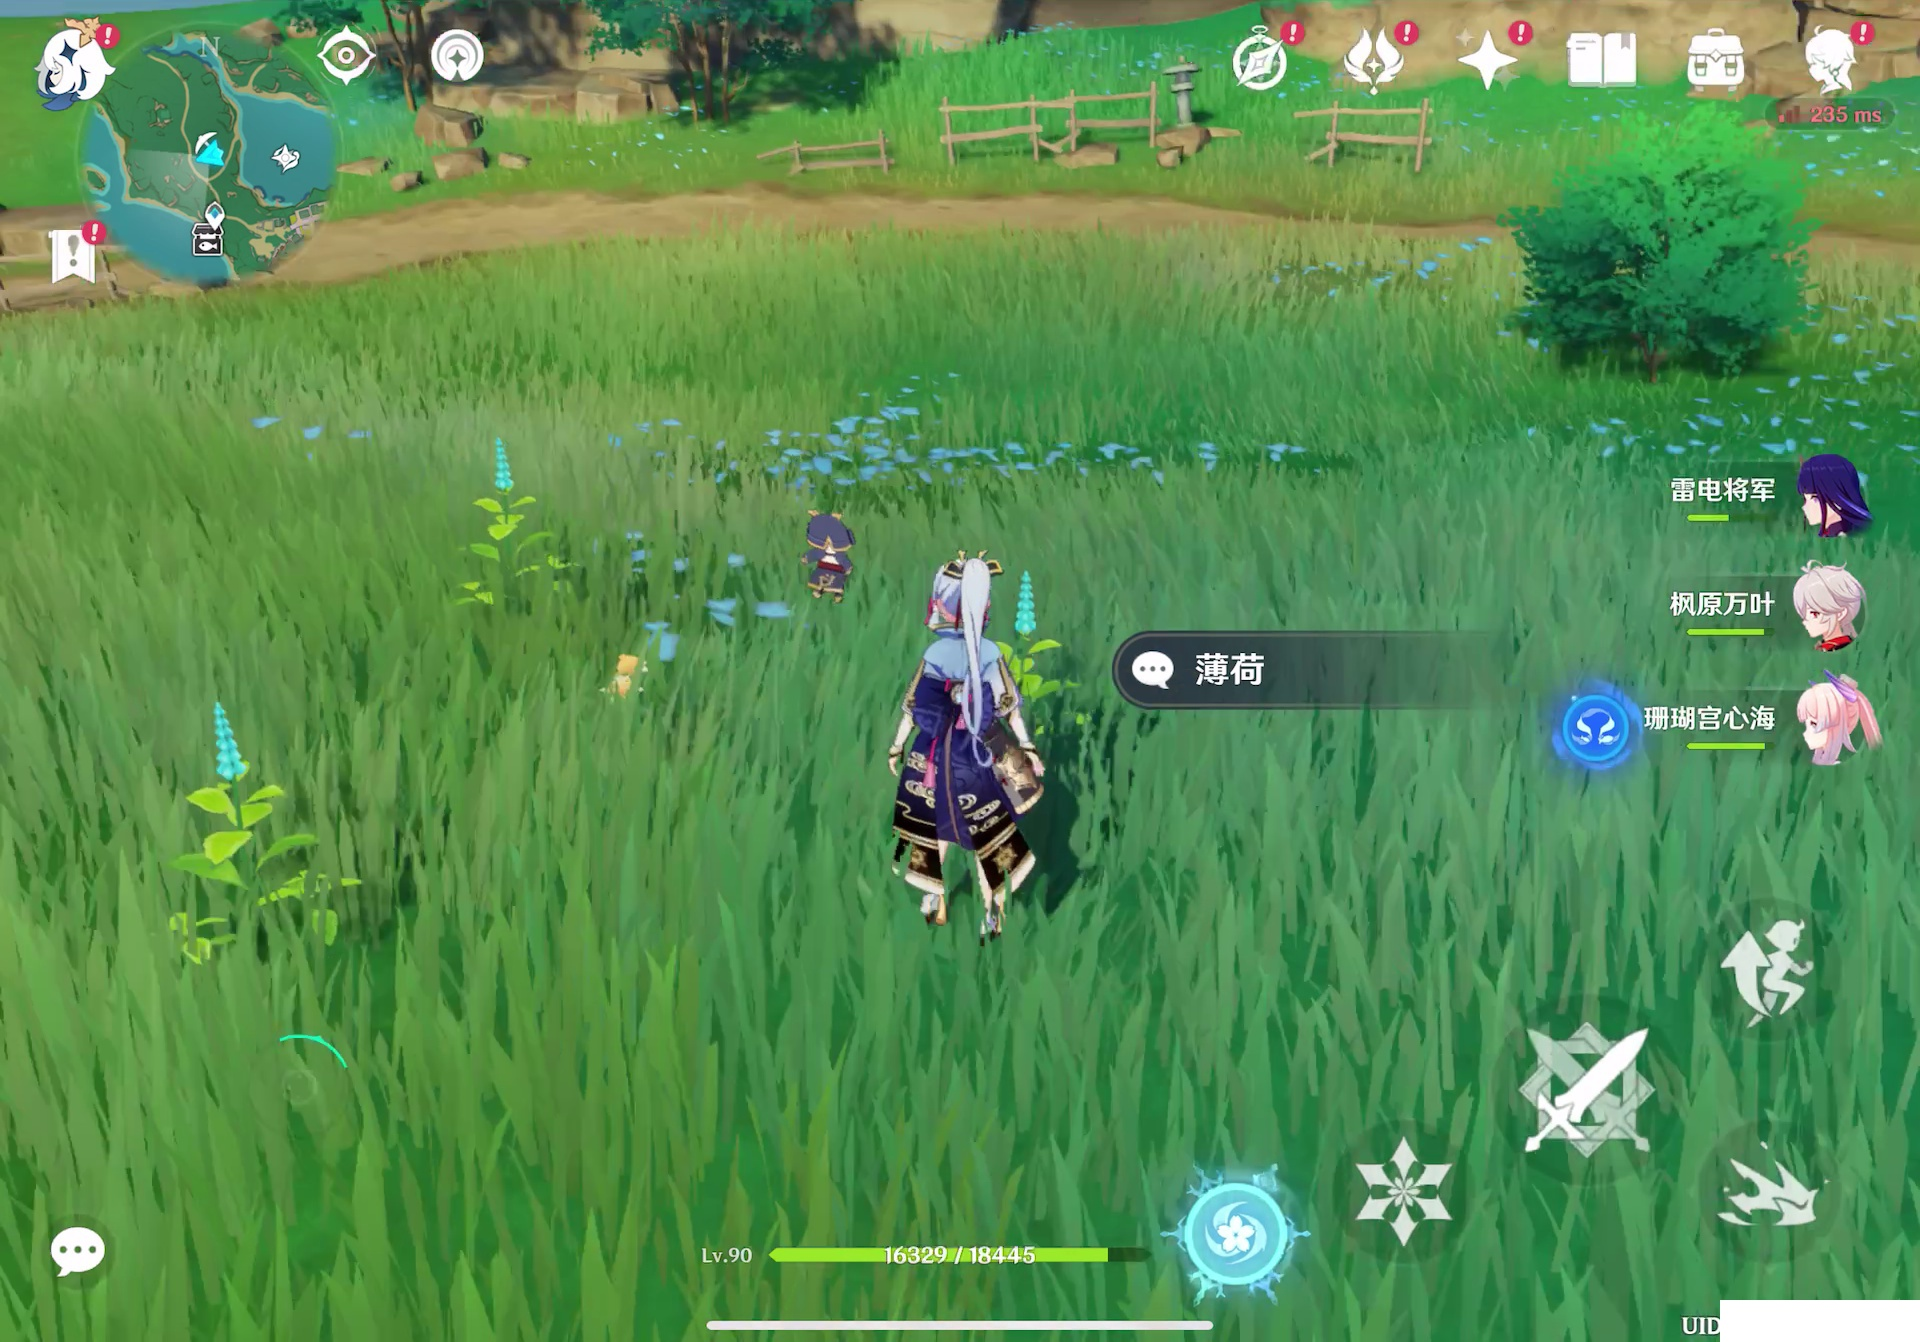没用的甜甜花: (595, 649, 662, 707)
没用的薄荷: (153, 687, 381, 986), (449, 429, 587, 621), (1010, 567, 1099, 694)
神里绫龟: (886, 546, 1005, 947)
